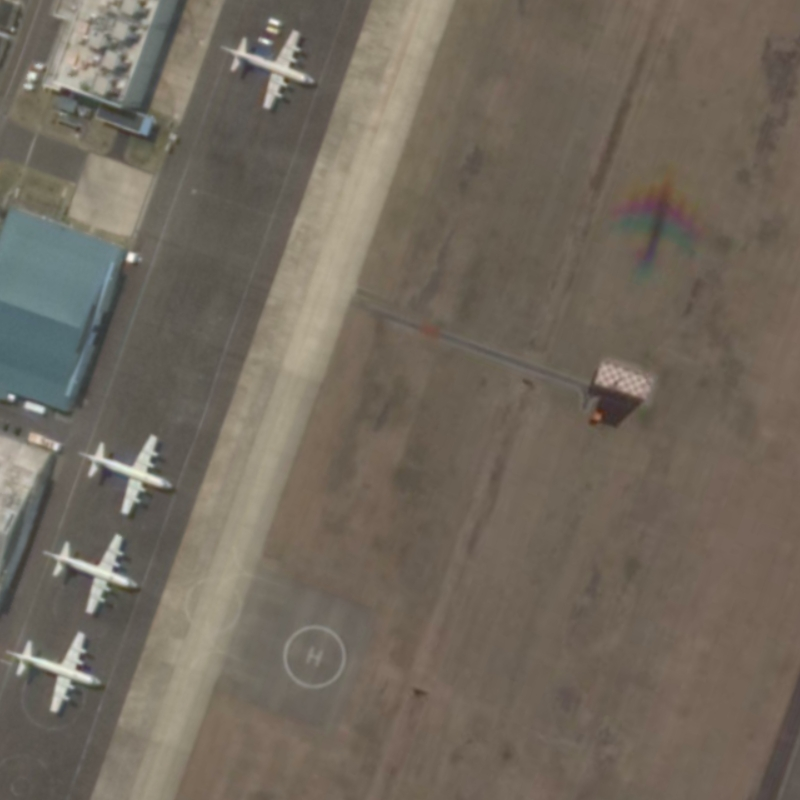A9: (211, 19, 320, 115), (70, 430, 181, 522), (37, 528, 150, 618), (4, 631, 114, 716)
